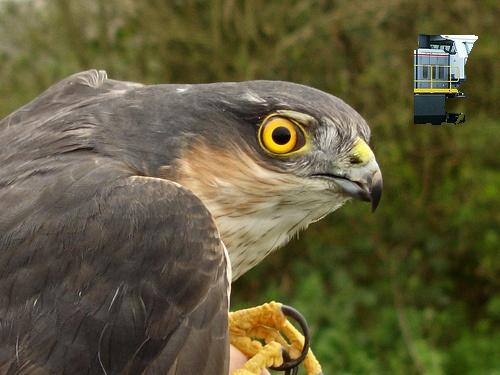tampered: (415, 35, 478, 125)
